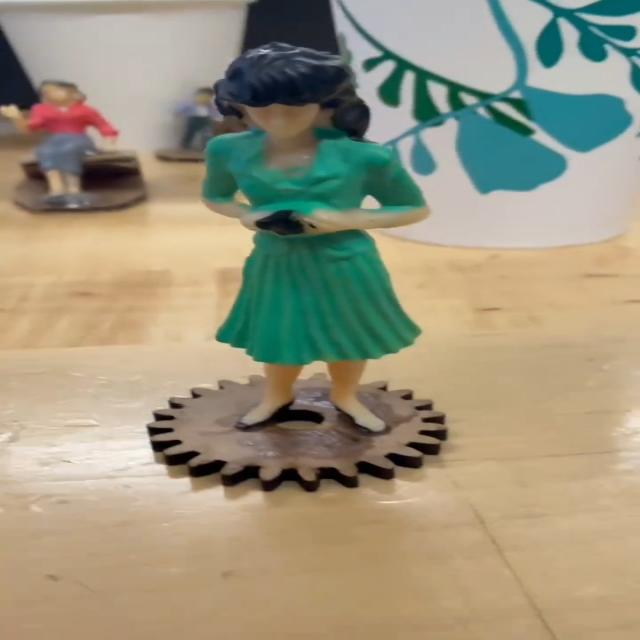Authorized: (137, 20, 456, 505)
